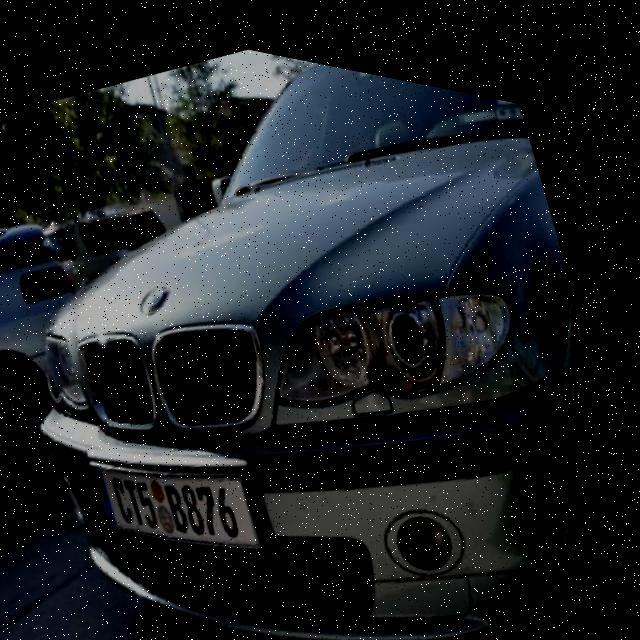license_plate: (85, 390, 304, 609)
